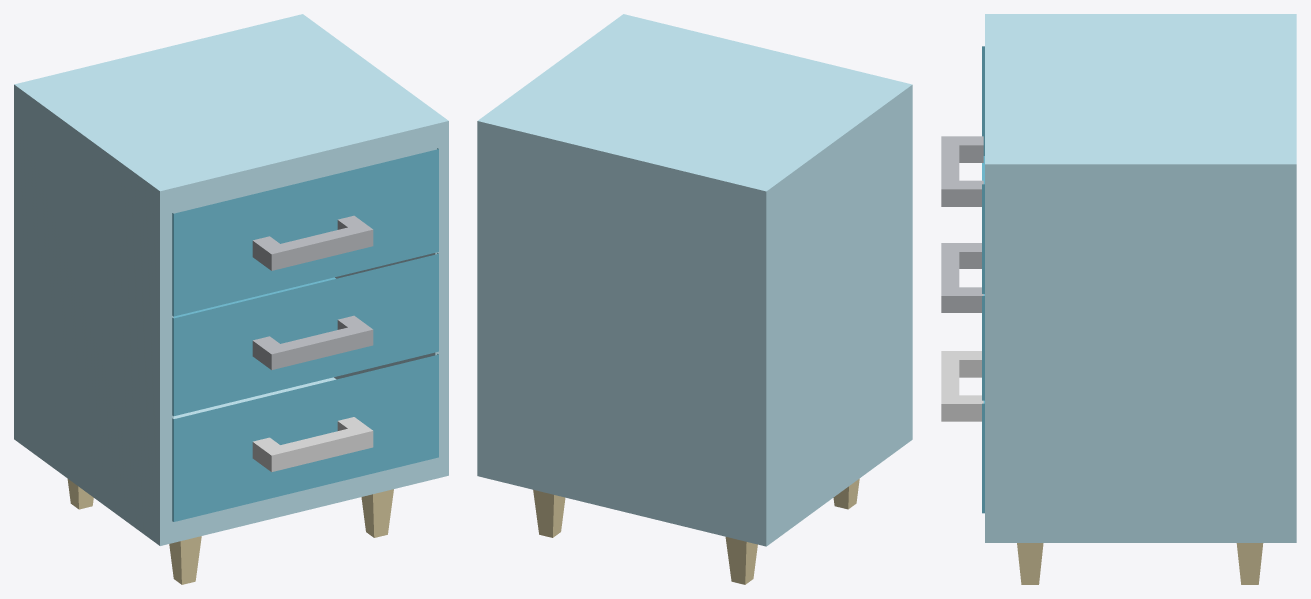
The model's file is KabinetBawahKecil.fbx.
The picture shows the model from 3 angles, left to right: view 1: azimuth 30°, elevation 25°; view 2: azimuth 150°, elevation 25°; view 3: azimuth 270°, elevation 25°; orthographic projection. The views are drawn at different scales.
Visible parts, largest first — view 1: Cube.010; view 2: Cube.010; view 3: Cube.010.
Boxes of the visible parts, x1,y1,x2,y2 form: Cube.010: (14, 14, 448, 584); Cube.010: (477, 14, 912, 584); Cube.010: (941, 14, 1296, 584).
Size of the model in its own units: 82.59 by 114 by 82.46.
